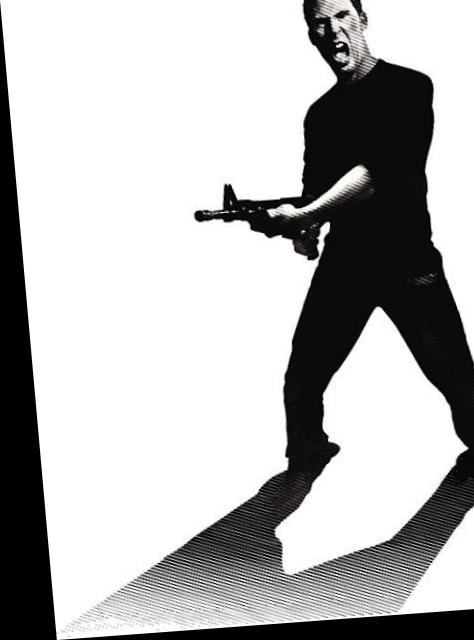other: (235, 0, 472, 492)
